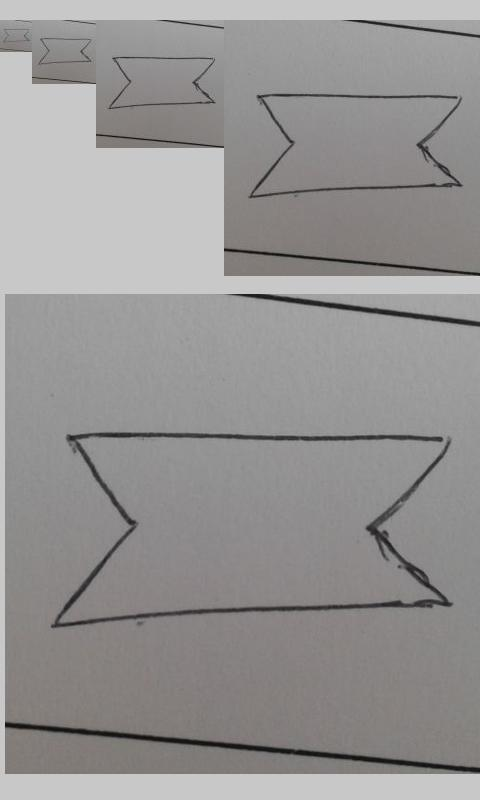edit_text: (54, 426, 452, 628), (249, 92, 463, 199), (109, 56, 215, 109), (38, 37, 92, 65), (3, 28, 30, 42)
